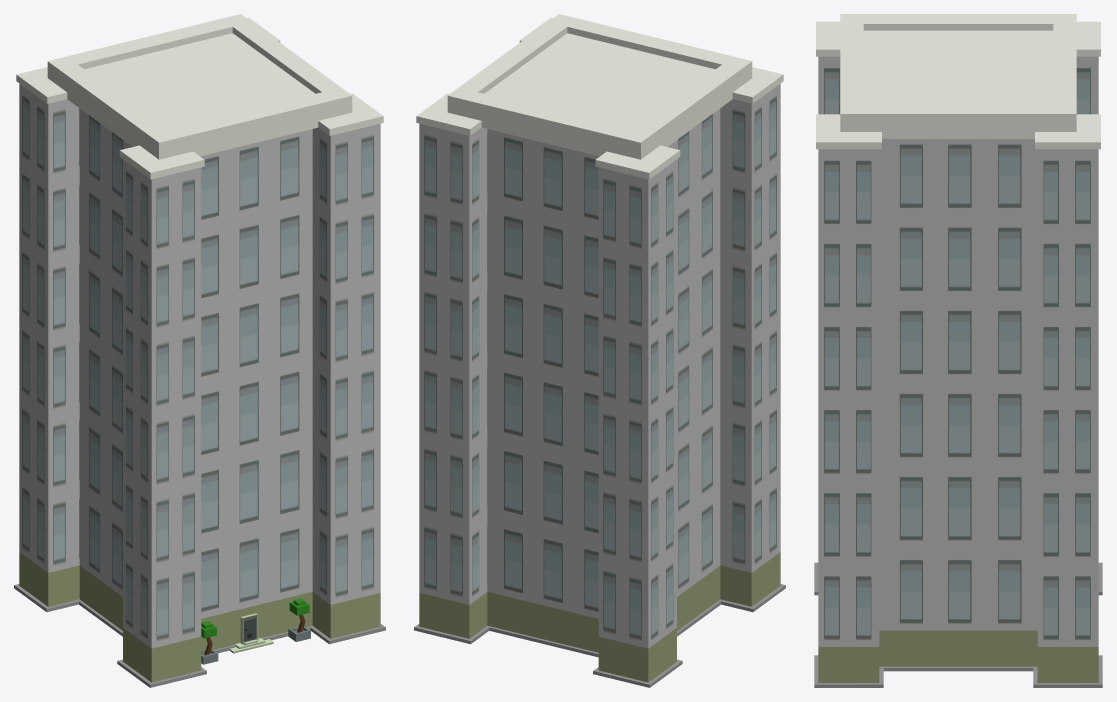
The model's file is Corner Pilars Basic Six Floor.fbx.
3 renders of one model, left to right at view 1: azimuth 30°, elevation 25°; view 2: azimuth 150°, elevation 25°; view 3: azimuth 270°, elevation 25°, orthographic. The views are drawn at different scales.
Visible parts, largest first — view 1: Corner Pilars Basic Six Floor; view 2: Corner Pilars Basic Six Floor; view 3: Corner Pilars Basic Six Floor.
Part boxes in pixels (x1,y1,x2,y2): Corner Pilars Basic Six Floor: (14, 14, 385, 687); Corner Pilars Basic Six Floor: (414, 14, 785, 687); Corner Pilars Basic Six Floor: (814, 14, 1102, 687).
Size of the model in its own units: 7.37 by 15.87 by 7.37.
